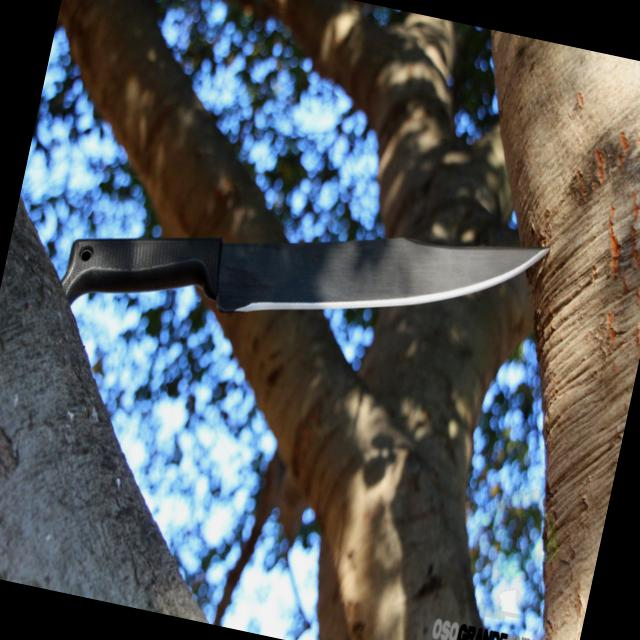knife: (184, 160, 567, 390)
